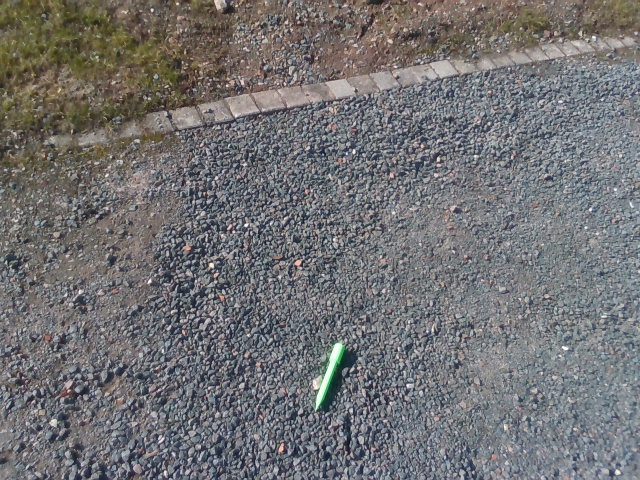Probe: (311, 338, 348, 416)
